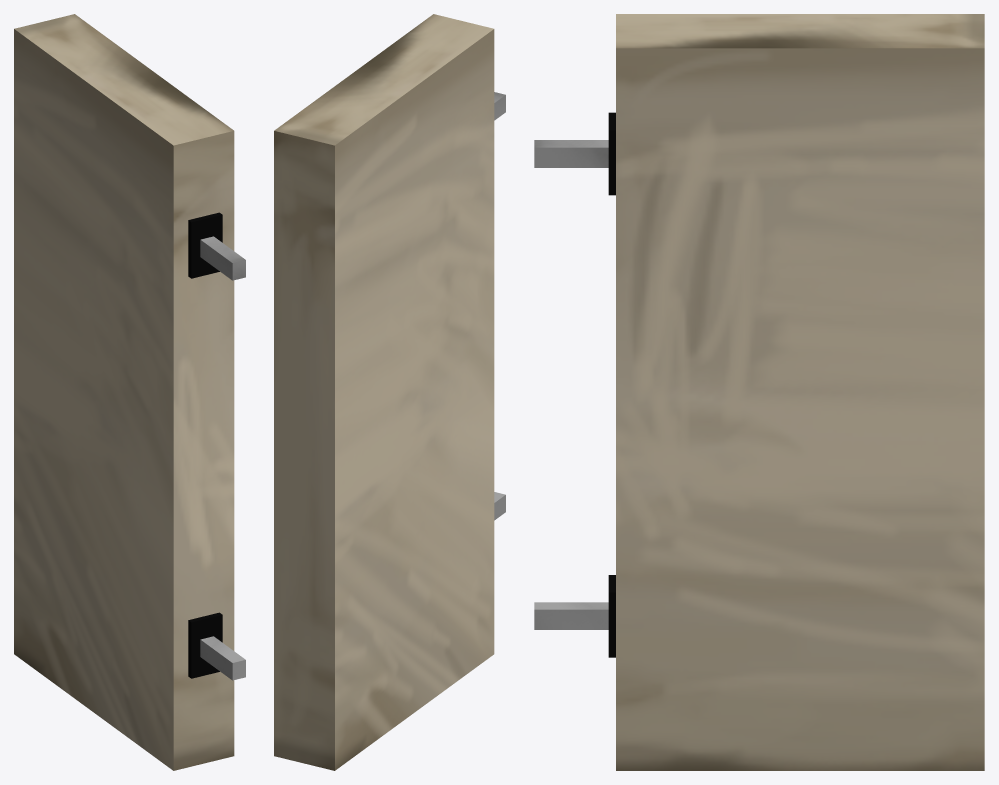
File: Sign.fbx
3 views of the same model, side by side, from view 1: azimuth 30°, elevation 25°; view 2: azimuth 150°, elevation 25°; view 3: azimuth 270°, elevation 25° (orthographic). The views are drawn at different scales.
Parts seen in each view (by area): view 1: Cube.006; view 2: Cube.006; view 3: Cube.006.
Boxes of the visible parts, x1,y1,x2,y2 form: Cube.006: (14, 14, 245, 770); Cube.006: (274, 14, 505, 770); Cube.006: (534, 14, 984, 770).
Size of the model in its own units: 10.17 by 99.97 by 56.44.
